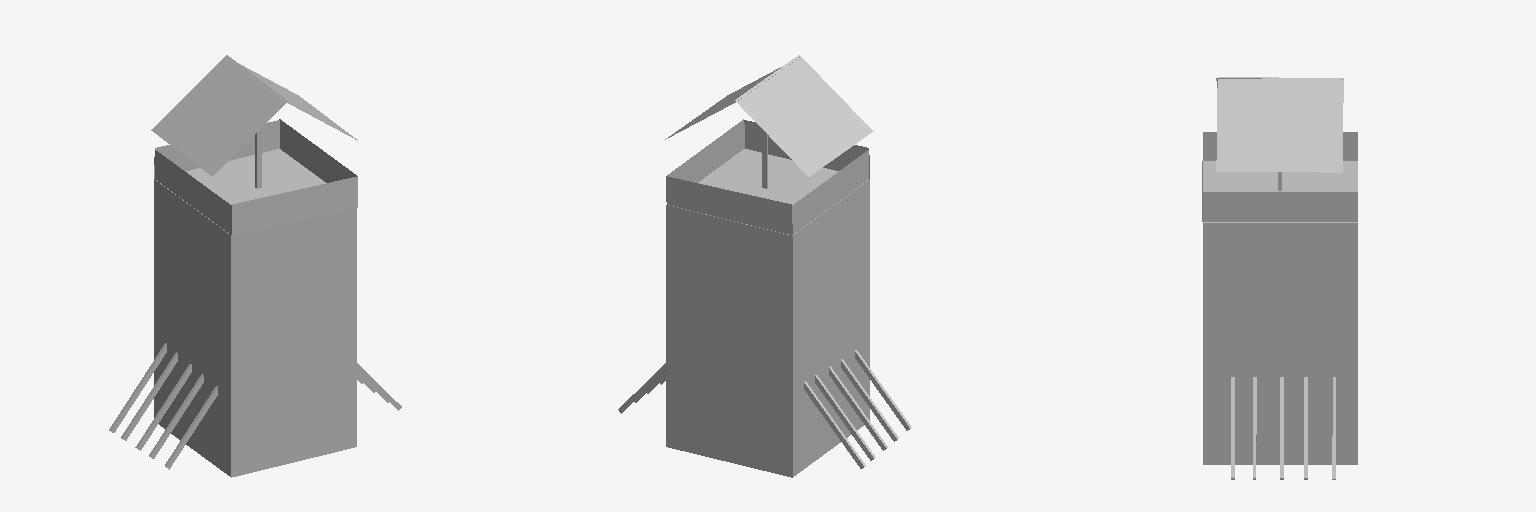
File: fort.obj
3 renders of one model, left to right at view 1: azimuth 30°, elevation 25°; view 2: azimuth 150°, elevation 25°; view 3: azimuth 270°, elevation 25°, orthographic.
Parts seen in each view (by area): view 1: Cube.001_Cube.002, Cube_Cube.001, Plane.005, Plane.003, Plane, Plane.001, Plane.002, Plane.010, Cube.011_Cube.012, Cube.010_Cube.011, Cube.013_Cube.014, Cube.009_Cube.010 (+1 smaller); view 2: Cube.001_Cube.002, Cube_Cube.001, Plane.005, Plane.002, Plane, Plane.001, Plane.003, Plane.010, Cube.011_Cube.012, Cube.010_Cube.011, Cube.013_Cube.014, Cube.009_Cube.010 (+1 smaller); view 3: Cube.001_Cube.002, Cube_Cube.001, Plane.010, Plane.001, Plane.
Boxes of the visible parts, x1,y1,x2,y2 form: Cube.001_Cube.002: [154, 149, 356, 348]; Cube_Cube.001: [154, 293, 356, 477]; Plane.005: [151, 55, 287, 176]; Plane.003: [231, 176, 357, 235]; Plane: [154, 150, 231, 234]; Plane.001: [279, 119, 356, 182]; Plane.002: [154, 120, 279, 178]; Plane.010: [226, 57, 357, 140]; Cube.011_Cube.012: [109, 343, 166, 432]; Cube.010_Cube.011: [121, 352, 177, 440]; Cube.013_Cube.014: [135, 364, 191, 450]; Cube.009_Cube.010: [149, 374, 203, 458]; Cube.001_Cube.002: [666, 149, 869, 349]; Cube_Cube.001: [666, 293, 869, 477]; Plane.005: [735, 55, 873, 176]; Plane.002: [666, 176, 792, 234]; Plane: [792, 150, 868, 234]; Plane.001: [667, 119, 744, 182]; Plane.003: [744, 120, 869, 178]; Plane.010: [665, 57, 799, 139]; Cube.011_Cube.012: [804, 381, 865, 468]; Cube.010_Cube.011: [815, 375, 875, 460]; Cube.013_Cube.014: [829, 366, 887, 450]; Cube.009_Cube.010: [841, 359, 898, 441]; Cube.001_Cube.002: [1203, 161, 1357, 335]; Cube_Cube.001: [1203, 336, 1357, 464]; Plane.010: [1216, 77, 1343, 172]; Plane.001: [1203, 192, 1357, 221]; Plane: [1203, 132, 1357, 160].
Size of the model in its own units: 2.1 by 2.93 by 1.15.